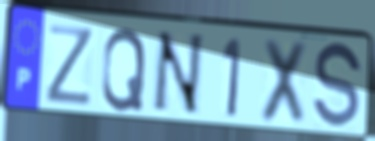1: (220, 36, 242, 121)
N: (148, 29, 206, 119)
Q: (99, 26, 149, 114)
S: (310, 40, 364, 134)
X: (257, 36, 310, 130)
Z: (43, 22, 96, 108)
